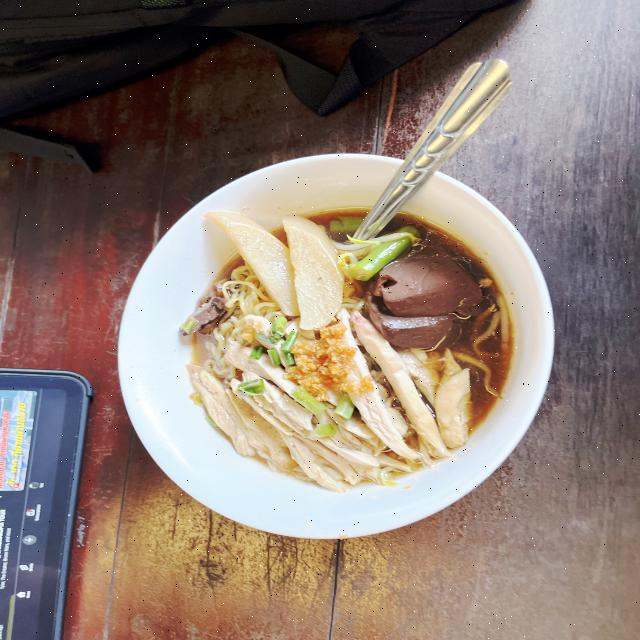boiled_chicken_blood_jelly: (379, 256, 464, 346)
chicken_shredded: (190, 327, 454, 473)
daikon_radish: (204, 211, 345, 330)
noodle: (161, 194, 530, 496)
